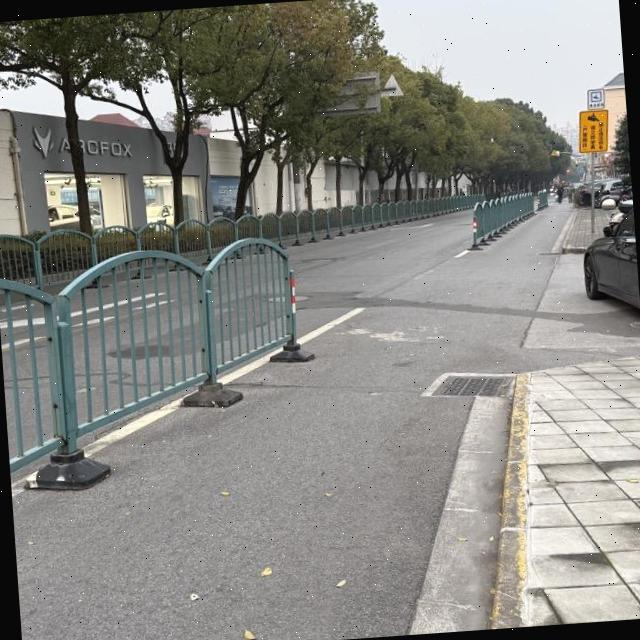curb: (489, 374, 527, 628), (562, 246, 587, 253)
